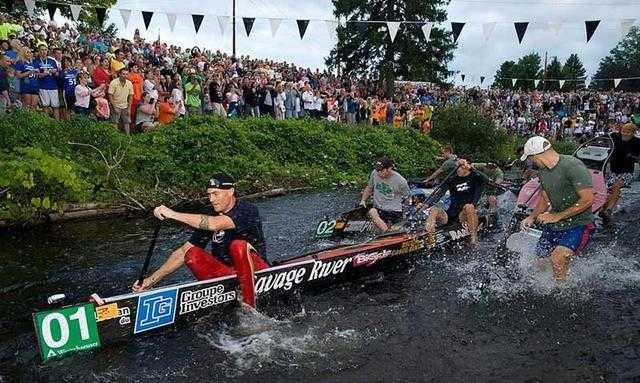kayak: (31, 195, 496, 359), (573, 132, 617, 175)
